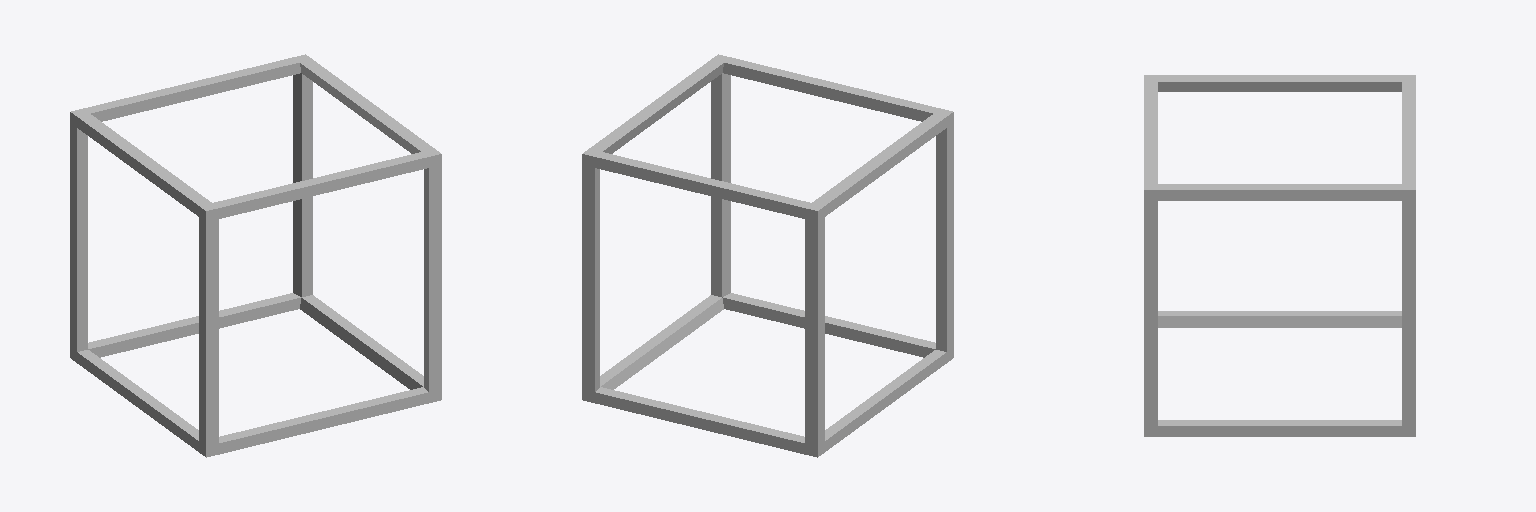
File: bbox.obj
3 views of the same model, side by side, from view 1: azimuth 30°, elevation 25°; view 2: azimuth 150°, elevation 25°; view 3: azimuth 270°, elevation 25° (orthographic).
Visible parts, largest first — view 1: Cube; view 2: Cube; view 3: Cube.
Boxes of the visible parts, x1,y1,x2,y2 form: Cube: [70, 54, 441, 457]; Cube: [582, 54, 953, 457]; Cube: [1144, 75, 1415, 436].
Size of the model in its own units: 1 by 1 by 1.